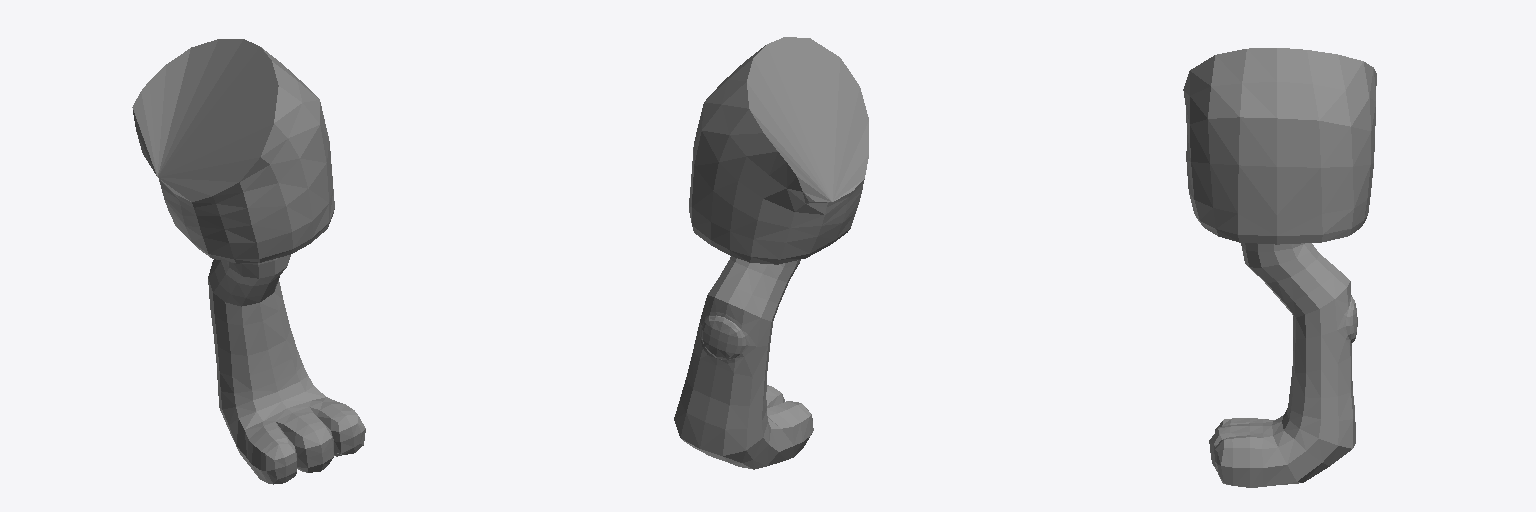
File: LucarioPierIzq.obj
3 renders of one model, left to right at view 1: azimuth 30°, elevation 25°; view 2: azimuth 150°, elevation 25°; view 3: azimuth 270°, elevation 25°, orthographic.
Visible parts, largest first — view 1: PiernaIzq001; view 2: PiernaIzq001; view 3: PiernaIzq001.
Boxes of the visible parts, x1=… form: PiernaIzq001: x1=132, y1=39, x2=365, y2=484; PiernaIzq001: x1=674, y1=37, x2=868, y2=469; PiernaIzq001: x1=1183, y1=48, x2=1376, y2=487.
Size of the model in its own units: 1.49 by 3.6 by 1.5.